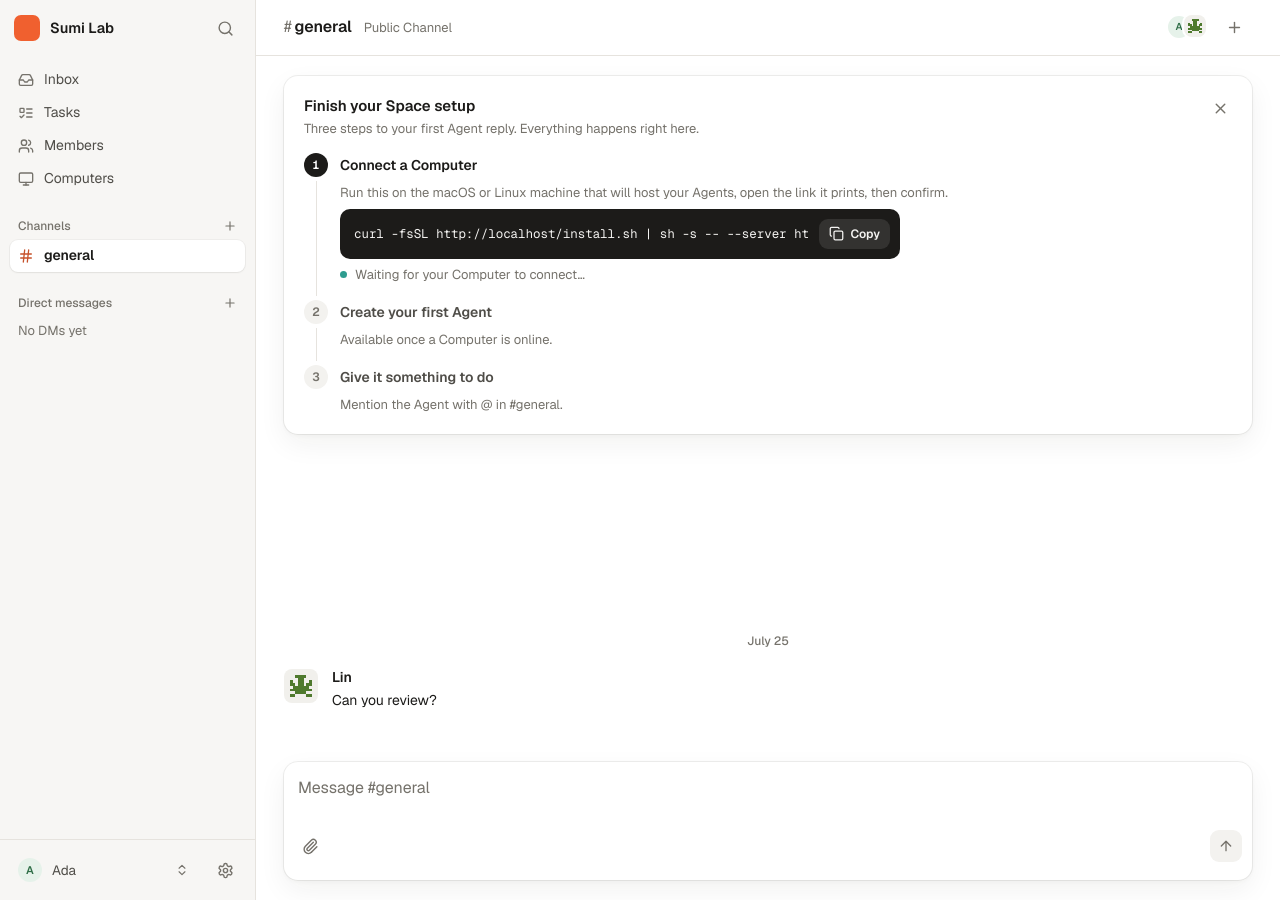
Test case: ChannelPage › opens the Agent DM from a Channel Message avatar
This screenshot has width=1280, height=900.
Expected: the text "Can you review?" is shown, [332, 691, 437, 709]
Click the button named "Lin options".
click(301, 686)  # box [284, 669, 318, 703]
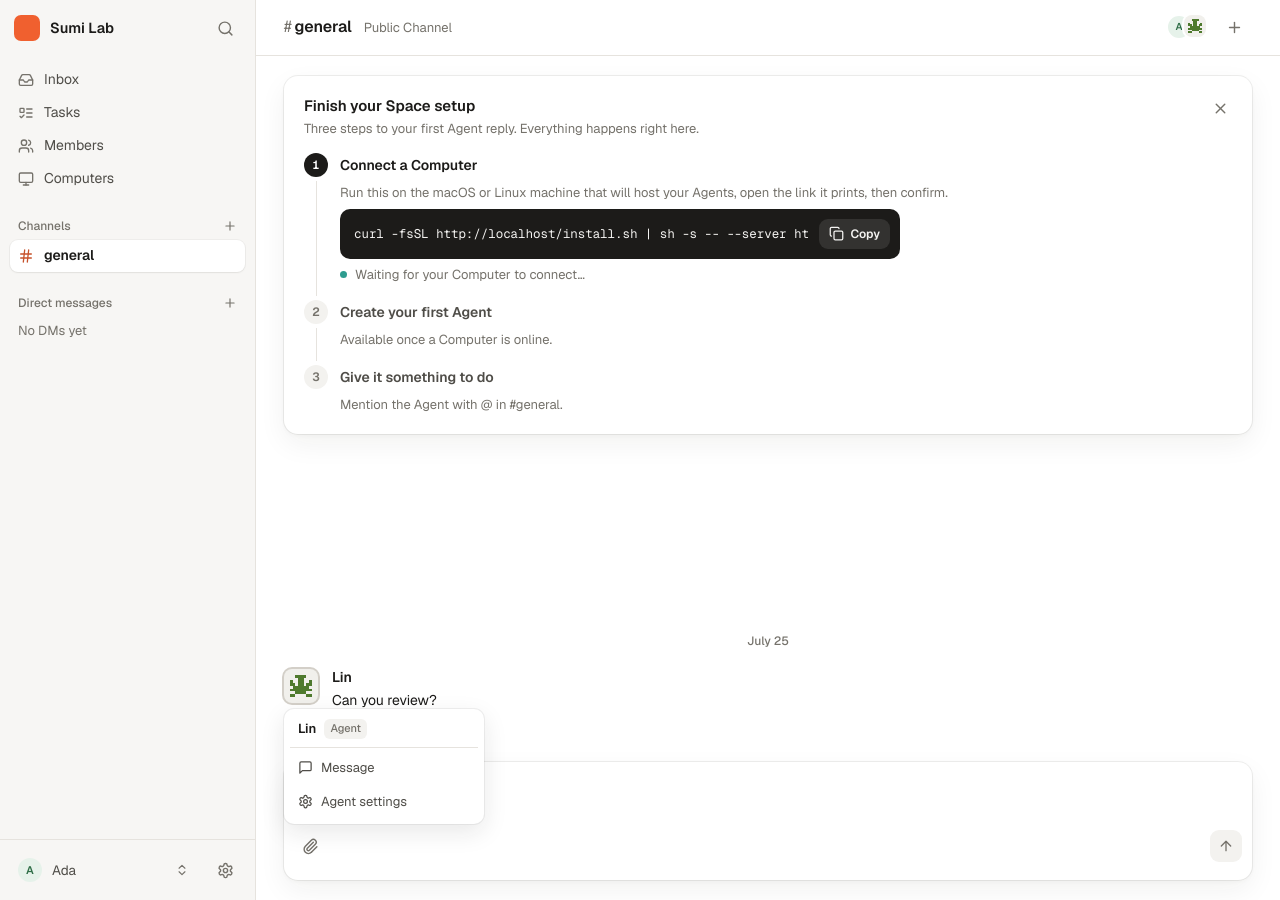
Click the menu item "Message".
click(384, 768)  # box [290, 752, 478, 784]
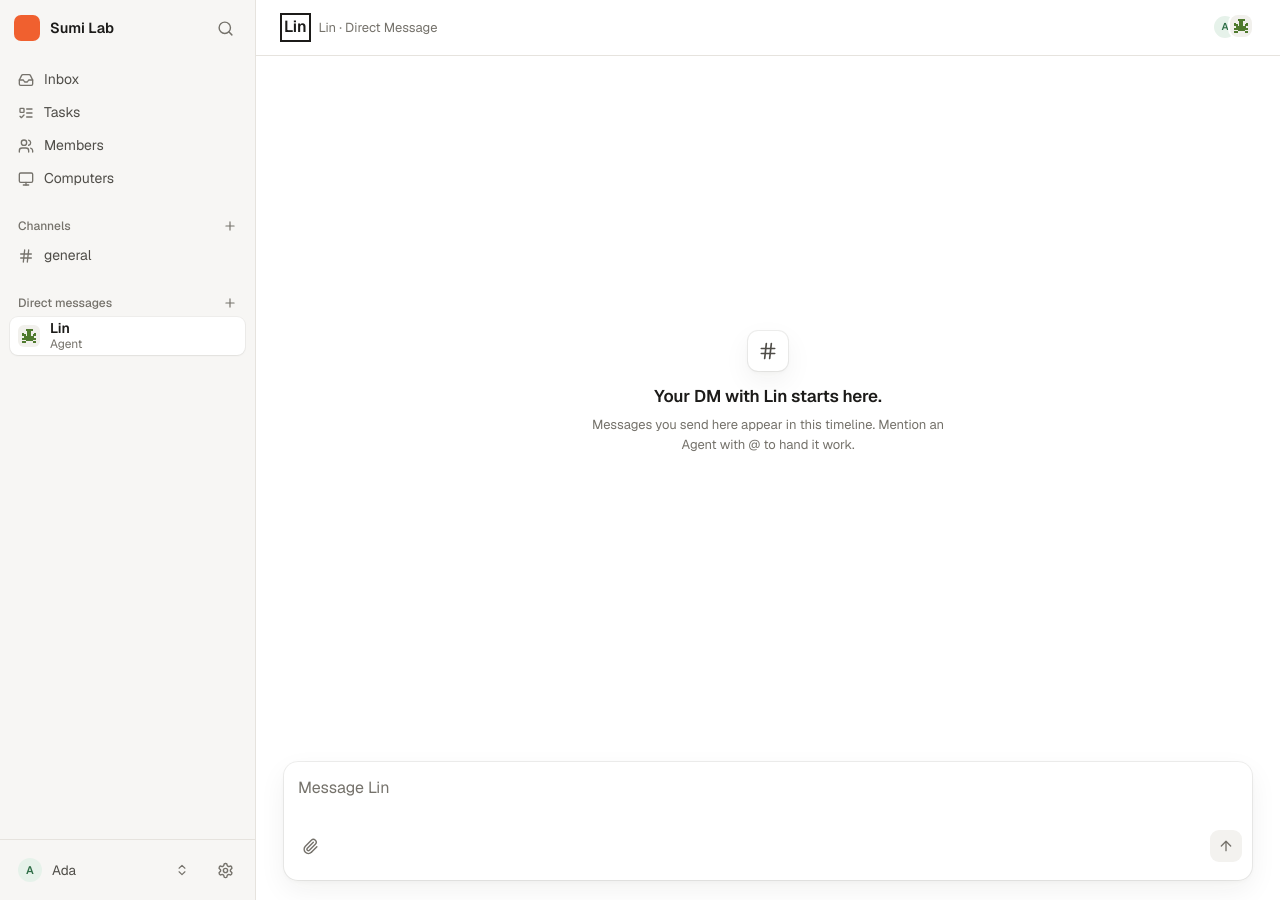
Result: the heading "Lin" is shown at [284, 17, 306, 38]
